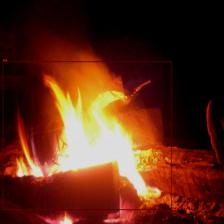fire: (3, 61, 172, 210)
